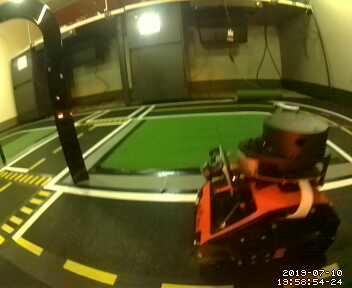pheeno: (193, 101, 343, 264)
